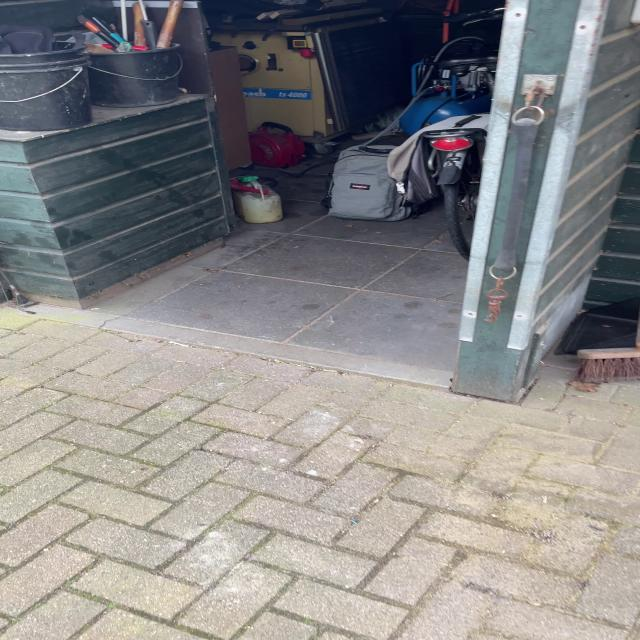backpack: (322, 141, 420, 224)
